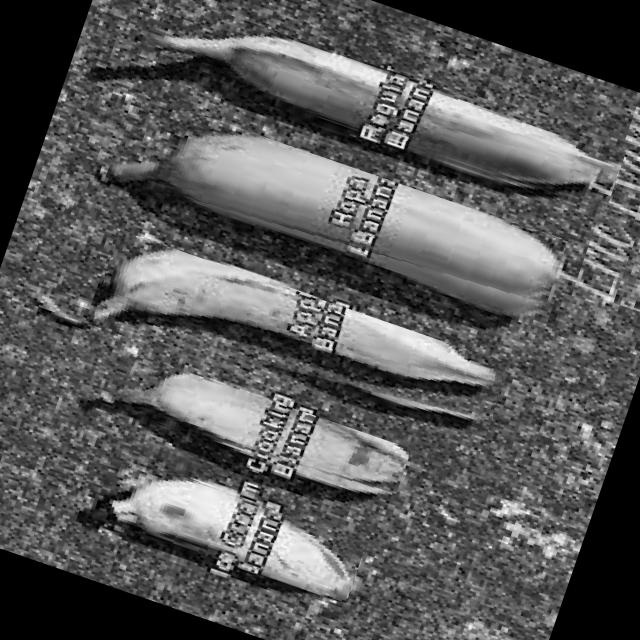Organic: (110, 92, 568, 321), (143, 0, 625, 216), (89, 228, 512, 454), (104, 348, 412, 506), (92, 450, 368, 602)
